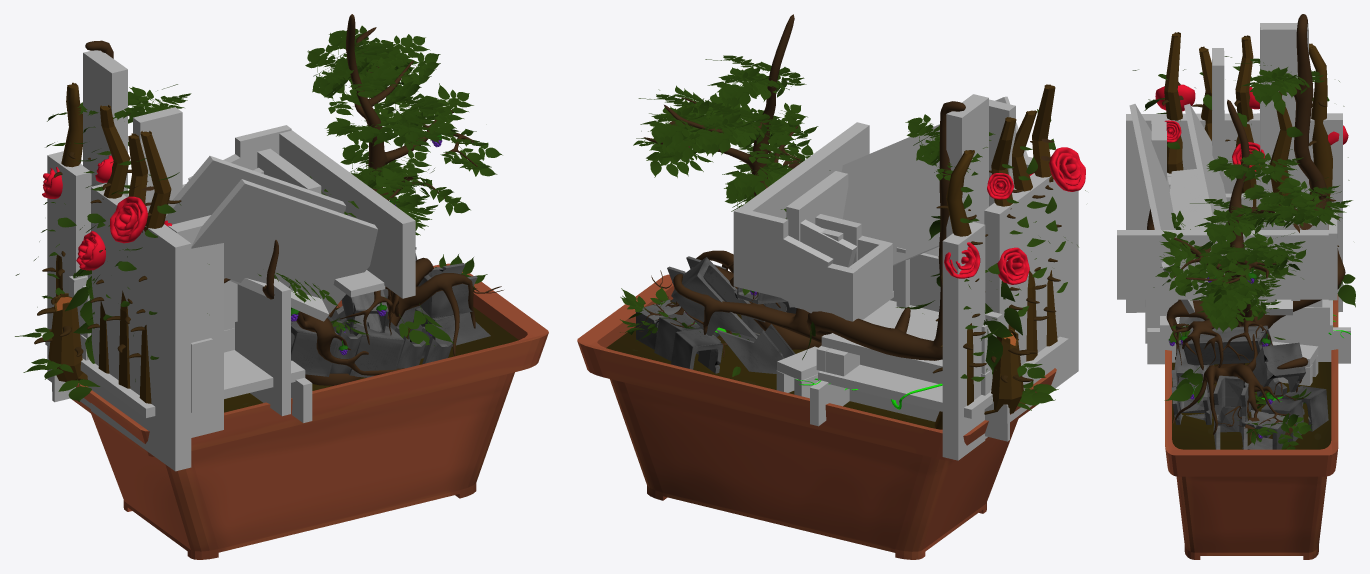
The model's file is ConcreteJungle-1.fbx.
3 renders of one model, left to right at view 1: azimuth 30°, elevation 25°; view 2: azimuth 150°, elevation 25°; view 3: azimuth 270°, elevation 25°, orthographic. The views are drawn at different scales.
Parts seen in each view (by area): view 1: PlaintPot_2, Cube__30_.001, Cube__35__1.001, TreeBody, Cube__36_.001, Cube__32_.001, Cube__25_.001, Cube__42__2.001, Cube__33_.001, Cube__43__6.001, Cube__38_.001, Leaf.235 (+28 smaller); view 2: PlaintPot_2, Cube__30_.001, TreeBody, Cube__33_.001, Cube__42__2.001, Cube__36_.001, Cube__4_.001, Cube__38_.001, Cube__43__6.001, Leaf.430, Cube__19__5.001, Cube__23_.001 (+32 smaller); view 3: PlaintPot_2, TreeBody, Cube__36_.001, Cube__30_.001, Cube__43__6.001, Cube__35__1.001, Cube__18__7.001, Leaf.430, Brick-1.011, Cube__33_.001, Cube__31_.001, Leaf.235 (+35 smaller).
Boxes of the visible parts, bbox=[...] form: PlaintPot_2: bbox=[72, 263, 548, 559]; Cube__30_.001: bbox=[91, 183, 191, 471]; Cube__35__1.001: bbox=[191, 179, 377, 313]; TreeBody: bbox=[85, 14, 477, 385]; Cube__36_.001: bbox=[279, 130, 415, 298]; Cube__32_.001: bbox=[235, 279, 290, 416]; Cube__25_.001: bbox=[168, 215, 223, 437]; Cube__42__2.001: bbox=[47, 151, 91, 382]; Cube__33_.001: bbox=[165, 156, 346, 224]; Cube__43__6.001: bbox=[83, 50, 127, 197]; Cube__38_.001: bbox=[45, 341, 305, 417]; Leaf.235: bbox=[326, 30, 417, 97]; PlaintPot_2: bbox=[577, 274, 1056, 559]; Cube__30_.001: bbox=[984, 173, 1078, 421]; TreeBody: bbox=[636, 14, 965, 360]; Cube__33_.001: bbox=[812, 134, 940, 265]; Cube__42__2.001: bbox=[942, 221, 985, 460]; Cube__36_.001: bbox=[740, 122, 869, 218]; Cube__4_.001: bbox=[733, 207, 788, 298]; Cube__38_.001: bbox=[818, 336, 1068, 418]; Cube__43__6.001: bbox=[946, 94, 988, 237]; Leaf.430: bbox=[932, 150, 998, 429]; Cube__19__5.001: bbox=[795, 263, 857, 321]; Cube__23_.001: bbox=[821, 300, 942, 375]; PlaintPot_2: bbox=[1165, 294, 1338, 559]; TreeBody: bbox=[1147, 14, 1345, 436]; Cube__36_.001: bbox=[1117, 230, 1328, 299]; Cube__30_.001: bbox=[1126, 113, 1259, 312]; Cube__43__6.001: bbox=[1260, 23, 1308, 208]; Cube__35__1.001: bbox=[1129, 104, 1194, 313]; Cube__18__7.001: bbox=[1147, 327, 1350, 364]; Leaf.430: bbox=[1309, 43, 1349, 246]; Brick-1.011: bbox=[1182, 325, 1272, 365]; Cube__33_.001: bbox=[1184, 103, 1228, 224]; Cube__31_.001: bbox=[1169, 169, 1219, 229]; Leaf.235: bbox=[1206, 149, 1303, 184].
Bounding box in the file's own units: 51659 × 51460 × 26720.
